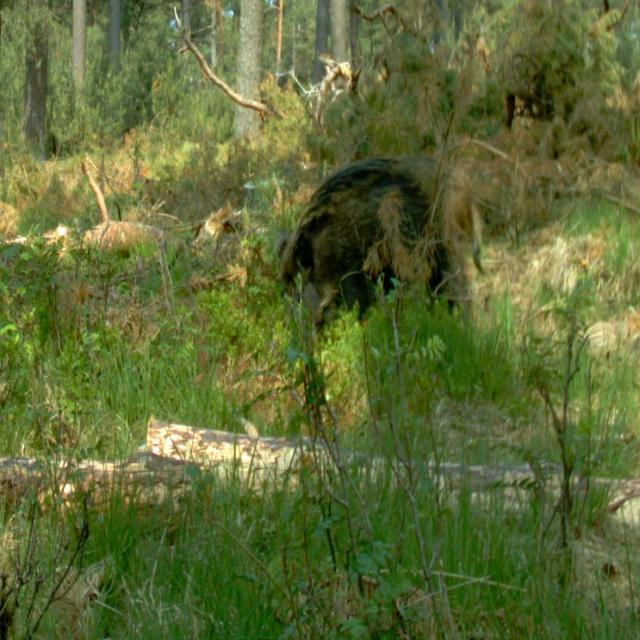pig: (267, 112, 572, 331)
